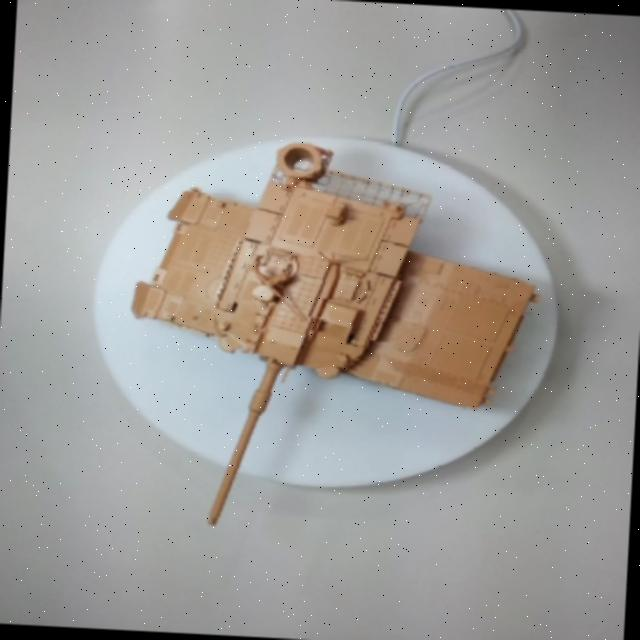korea tank: (88, 134, 540, 578)
